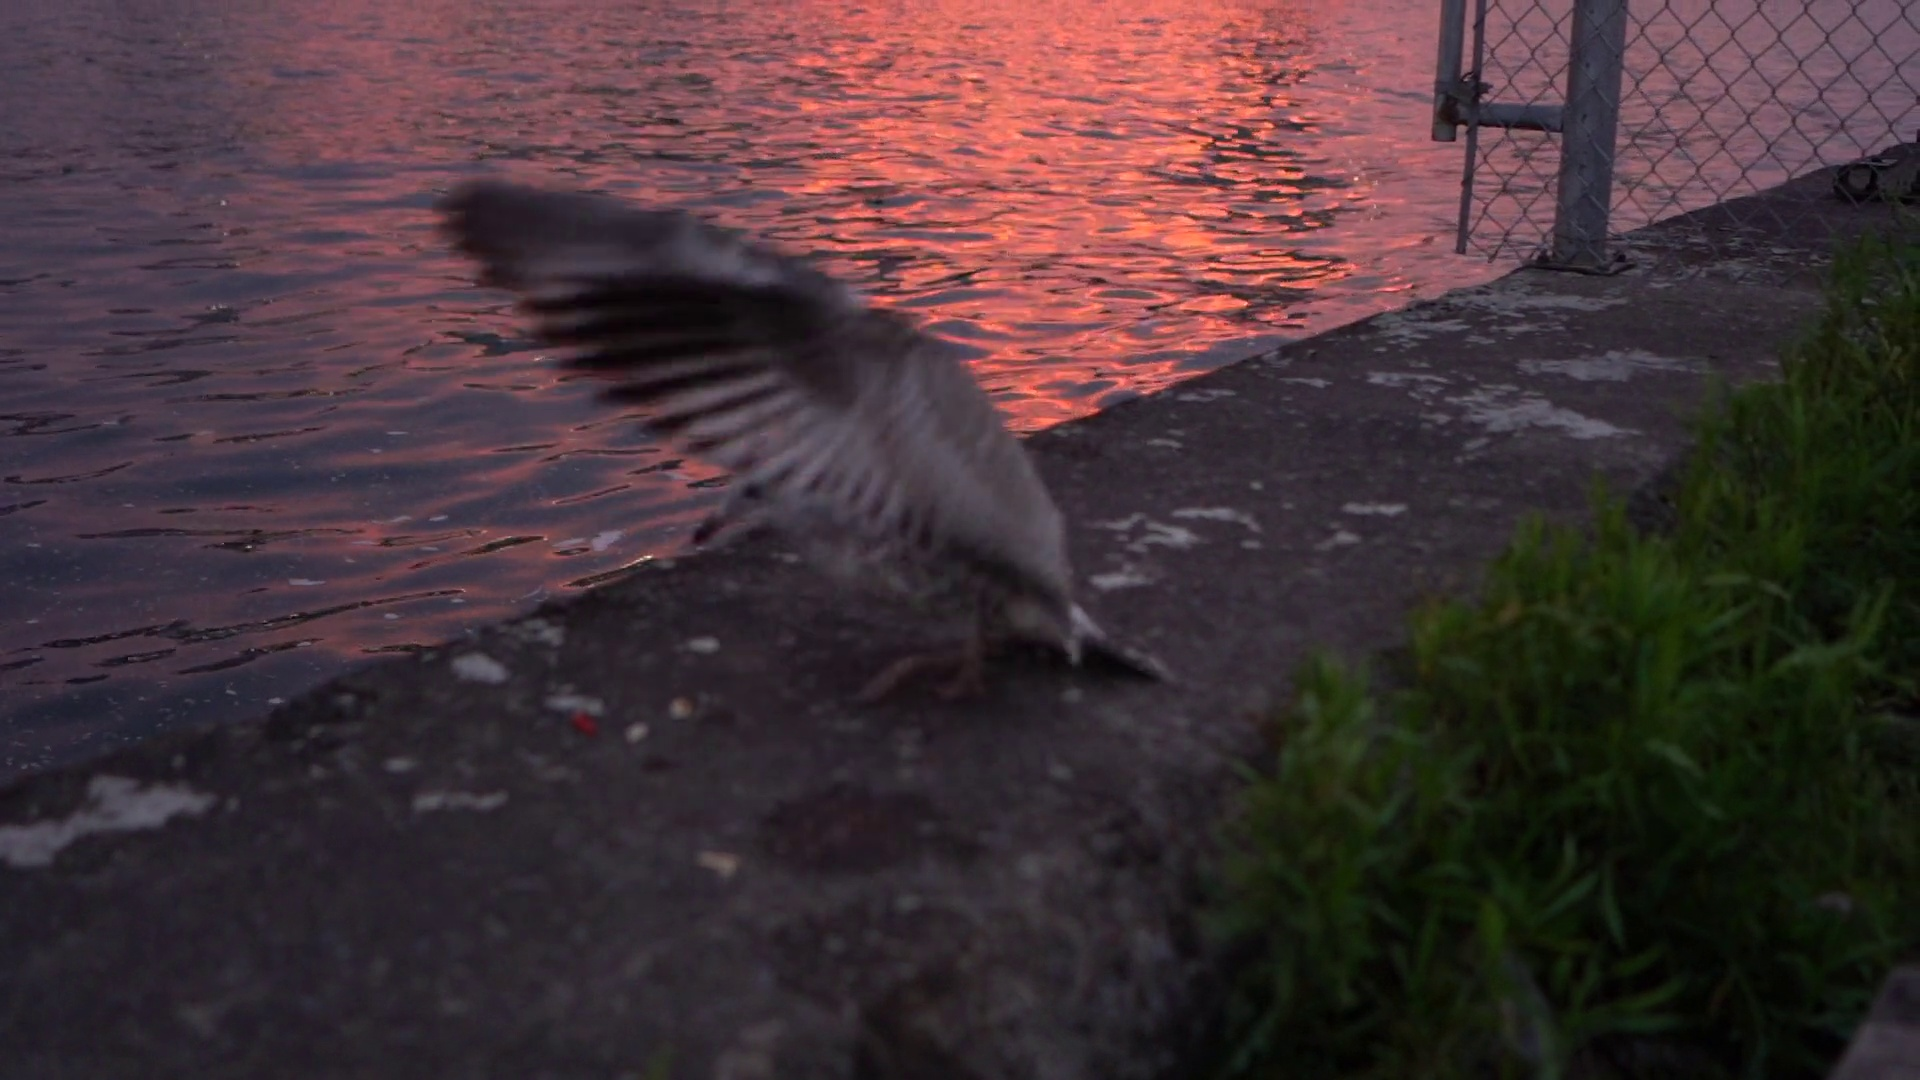bird: (438, 175, 1172, 698)
